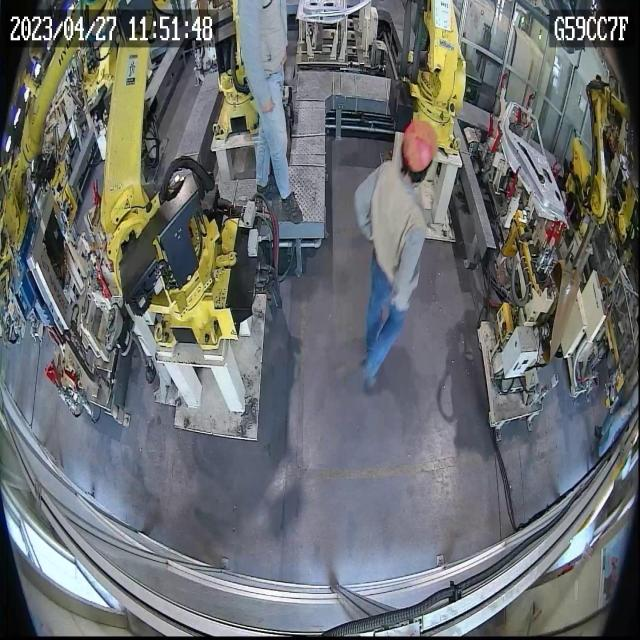Person: (353, 118, 438, 392), (235, 0, 303, 225)
